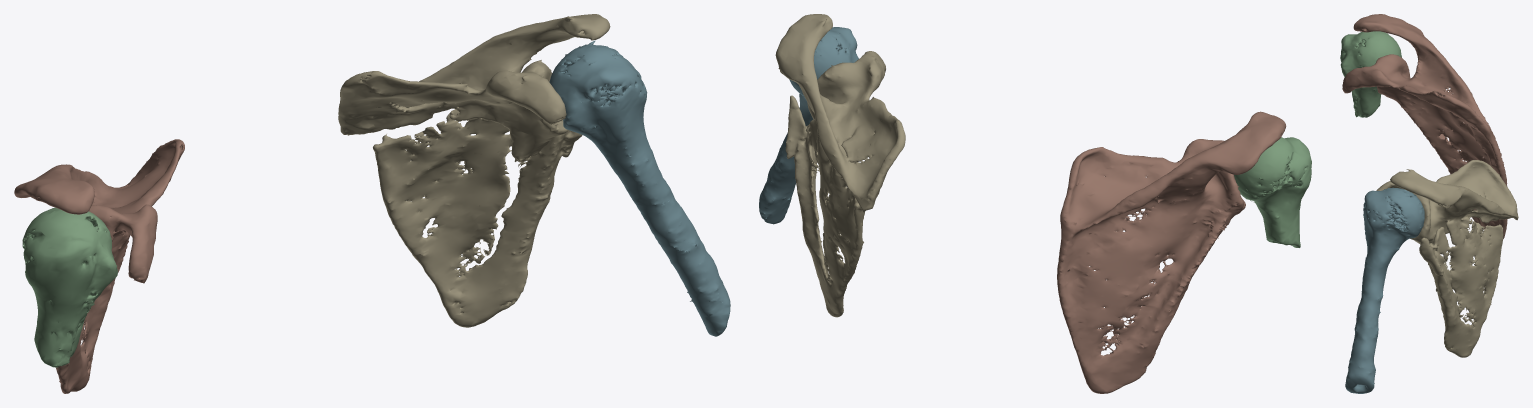
File: Scapula_Fracture_01.fbx
3 views of the same model, side by side, from view 1: azimuth 30°, elevation 25°; view 2: azimuth 150°, elevation 25°; view 3: azimuth 270°, elevation 25° (orthographic). The views are drawn at different scales.
Visible parts, largest first — view 1: SM_LeftScapula, SM_LeftHumerus, SM_RightScapula, SM_RightHumerus; view 2: SM_RightScapula, SM_LeftScapula, SM_RightHumerus, SM_LeftHumerus; view 3: SM_LeftScapula, SM_RightScapula, SM_LeftHumerus, SM_RightHumerus.
Boxes of the visible parts, x1=… form: SM_LeftScapula: x1=338, y1=14, x2=610, y2=327; SM_LeftHumerus: x1=549, y1=40, x2=730, y2=336; SM_RightScapula: x1=14, y1=139, x2=184, y2=393; SM_RightHumerus: x1=22, y1=207, x2=117, y2=367; SM_RightScapula: x1=1057, y1=111, x2=1286, y2=393; SM_LeftScapula: x1=775, y1=14, x2=905, y2=317; SM_RightHumerus: x1=1234, y1=137, x2=1311, y2=247; SM_LeftHumerus: x1=759, y1=27, x2=858, y2=224; SM_LeftScapula: x1=1376, y1=160, x2=1518, y2=357; SM_RightScapula: x1=1342, y1=14, x2=1507, y2=238; SM_LeftHumerus: x1=1345, y1=187, x2=1424, y2=393; SM_RightHumerus: x1=1340, y1=31, x2=1401, y2=117.
Size of the model in its own units: 58.32 by 26.27 by 20.73.
